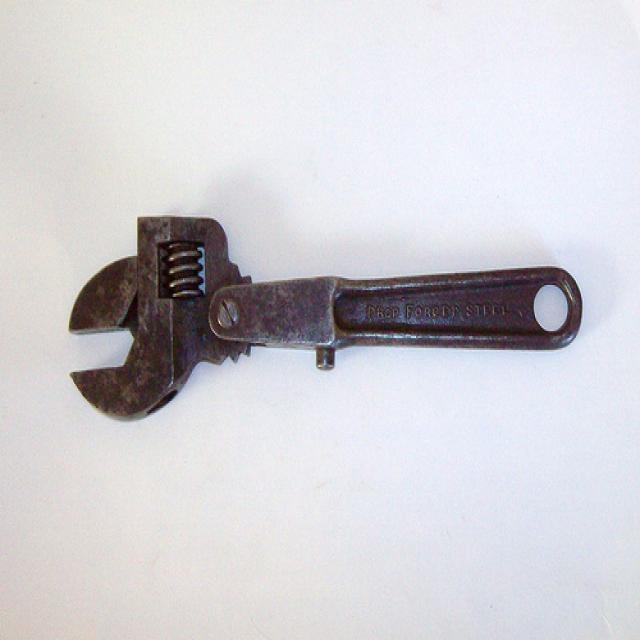wrench: (59, 200, 588, 434)
